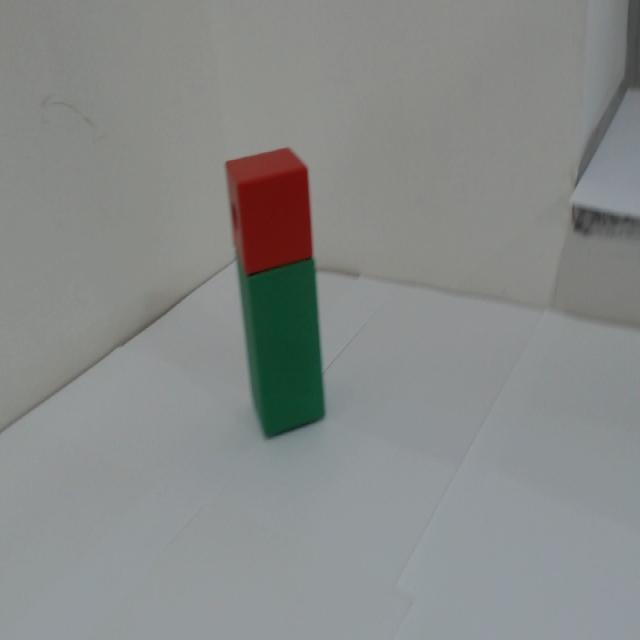cube: (190, 128, 339, 270)
